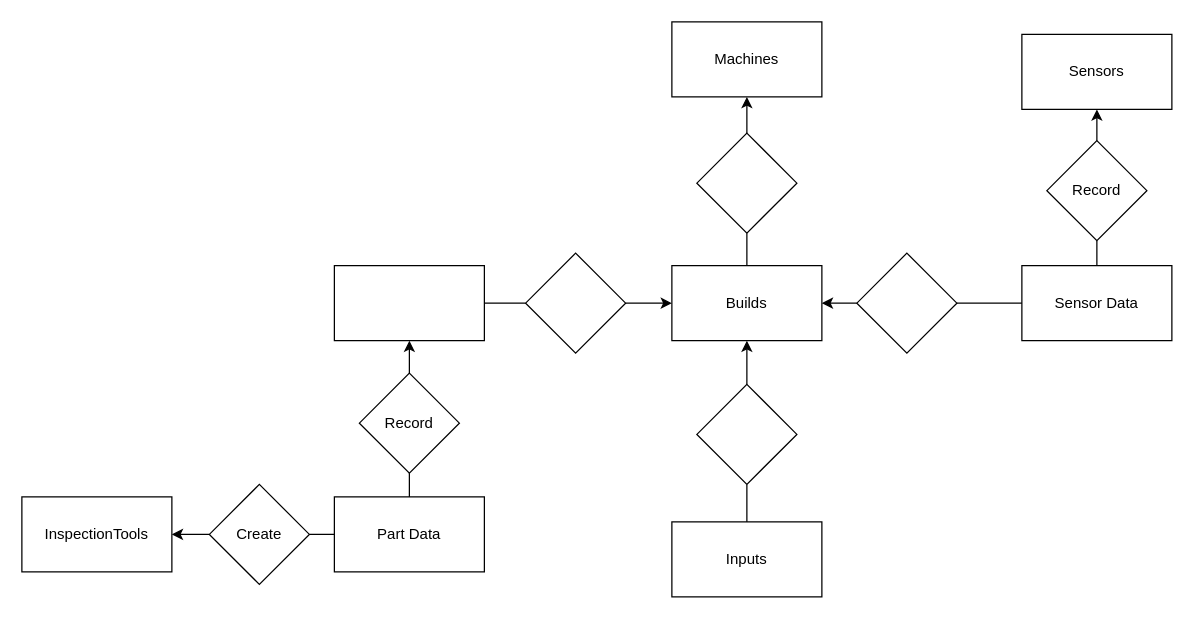
Image size: 1194x619. Some labels were removed from this diagram. The centre of each missing label's shape, as x and y in pixels:
Are in: pixel 575 302
Built by: pixel 746 182
Have: pixel 746 433
Observe: pixel 906 302
Parts: pixel 408 302
